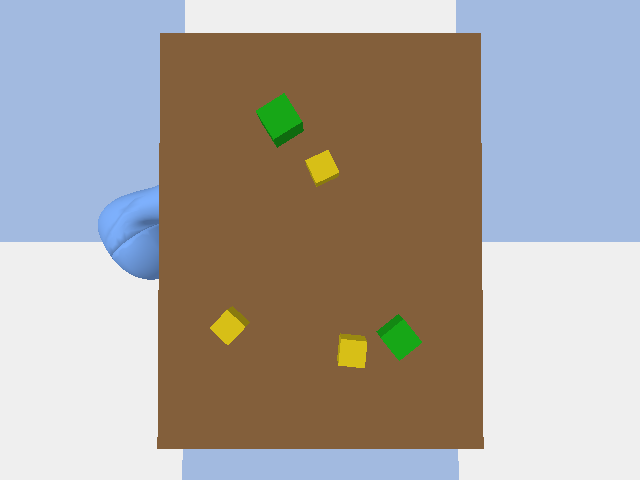green_obj: (256, 93, 303, 147), (376, 314, 421, 360)
yellow_obj: (210, 306, 249, 344), (305, 150, 338, 186), (337, 333, 366, 367)
